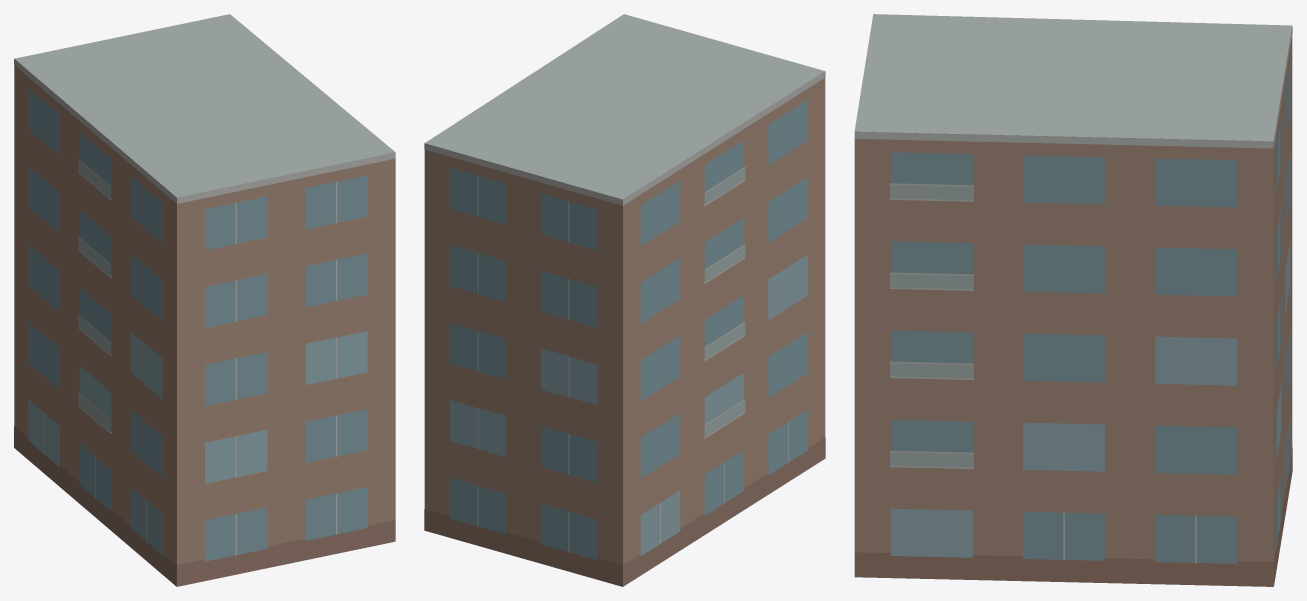
The model's file is survey-upis-32893632.glb.
The picture shows the model from 3 angles, left to right: view 1: azimuth 30°, elevation 25°; view 2: azimuth 150°, elevation 25°; view 3: azimuth 270°, elevation 25°; orthographic projection. The views are drawn at different scales.
Visible parts, largest first — view 1: survey-upis-32893632.tmp; view 2: survey-upis-32893632.tmp; view 3: survey-upis-32893632.tmp.
Part boxes in pixels (left/top/right/bottom): survey-upis-32893632.tmp: left=14, top=14, right=395, bottom=586; survey-upis-32893632.tmp: left=424, top=14, right=825, bottom=586; survey-upis-32893632.tmp: left=854, top=14, right=1292, bottom=586.
Bounding box in the file's own units: 9.26 × 15.1 × 13.46.
